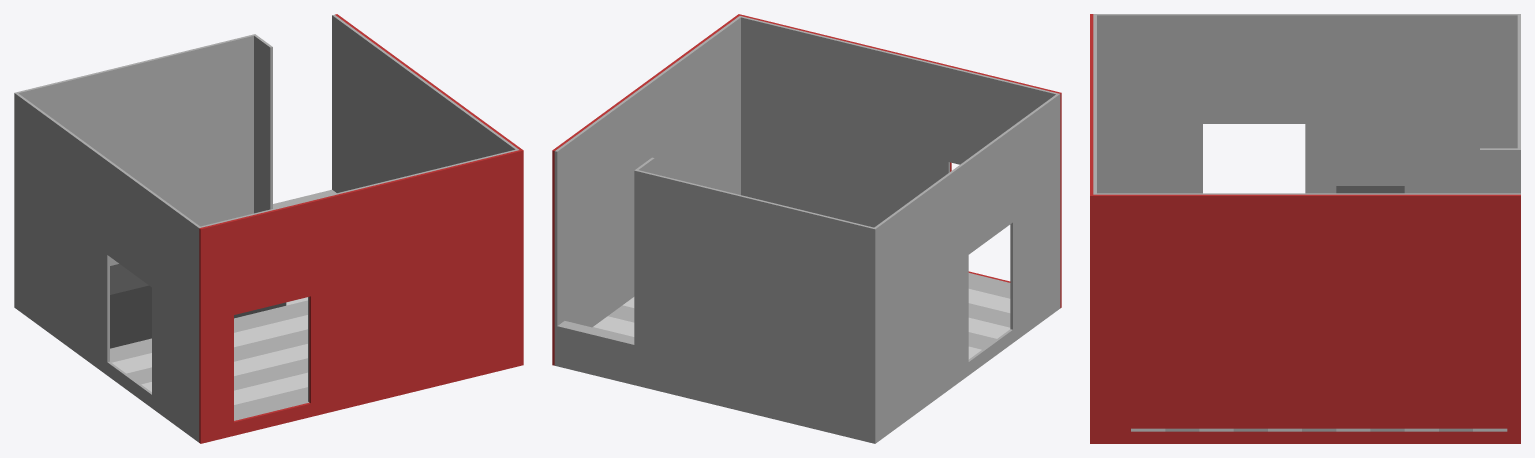
Rendered from 4x2 first (2)-7.obj.
3 views of the same model, side by side, from view 1: azimuth 30°, elevation 25°; view 2: azimuth 150°, elevation 25°; view 3: azimuth 270°, elevation 25° (orthographic). The views are drawn at different scales.
Parts seen in each view (by area): view 1: 4x2 first (2)-7; view 2: 4x2 first (2)-7; view 3: 4x2 first (2)-7.
Boxes of the visible parts, box(x1,y1,x2,y2) form: 4x2 first (2)-7: box(14, 14, 523, 443); 4x2 first (2)-7: box(552, 14, 1061, 443); 4x2 first (2)-7: box(1090, 14, 1520, 443).
Bounding box in the file's own units: 126 × 80 × 126.
1 material, 1 textured.
